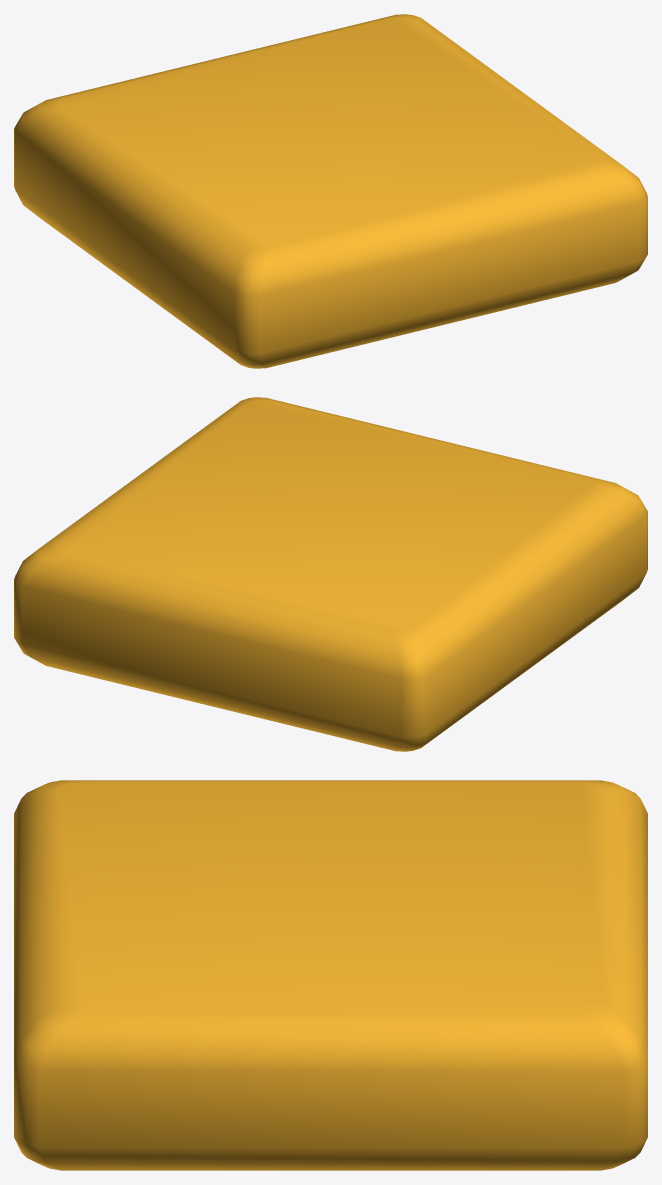
Rendered from Sofa_Seat.fbx.
3 views of the same model, one above another, from view 1: azimuth 30°, elevation 25°; view 2: azimuth 150°, elevation 25°; view 3: azimuth 270°, elevation 25° (orthographic). The views are drawn at different scales.
Visible parts, largest first — view 1: Sofa_Seat; view 2: Sofa_Seat; view 3: Sofa_Seat.
Part boxes in pixels (x1,y1,x2,y2): Sofa_Seat: (14,14,647,368); Sofa_Seat: (14,397,647,751); Sofa_Seat: (14,780,647,1170).
Size of the model in its own units: 80 by 21.71 by 80.
1 material, 1 textured.
